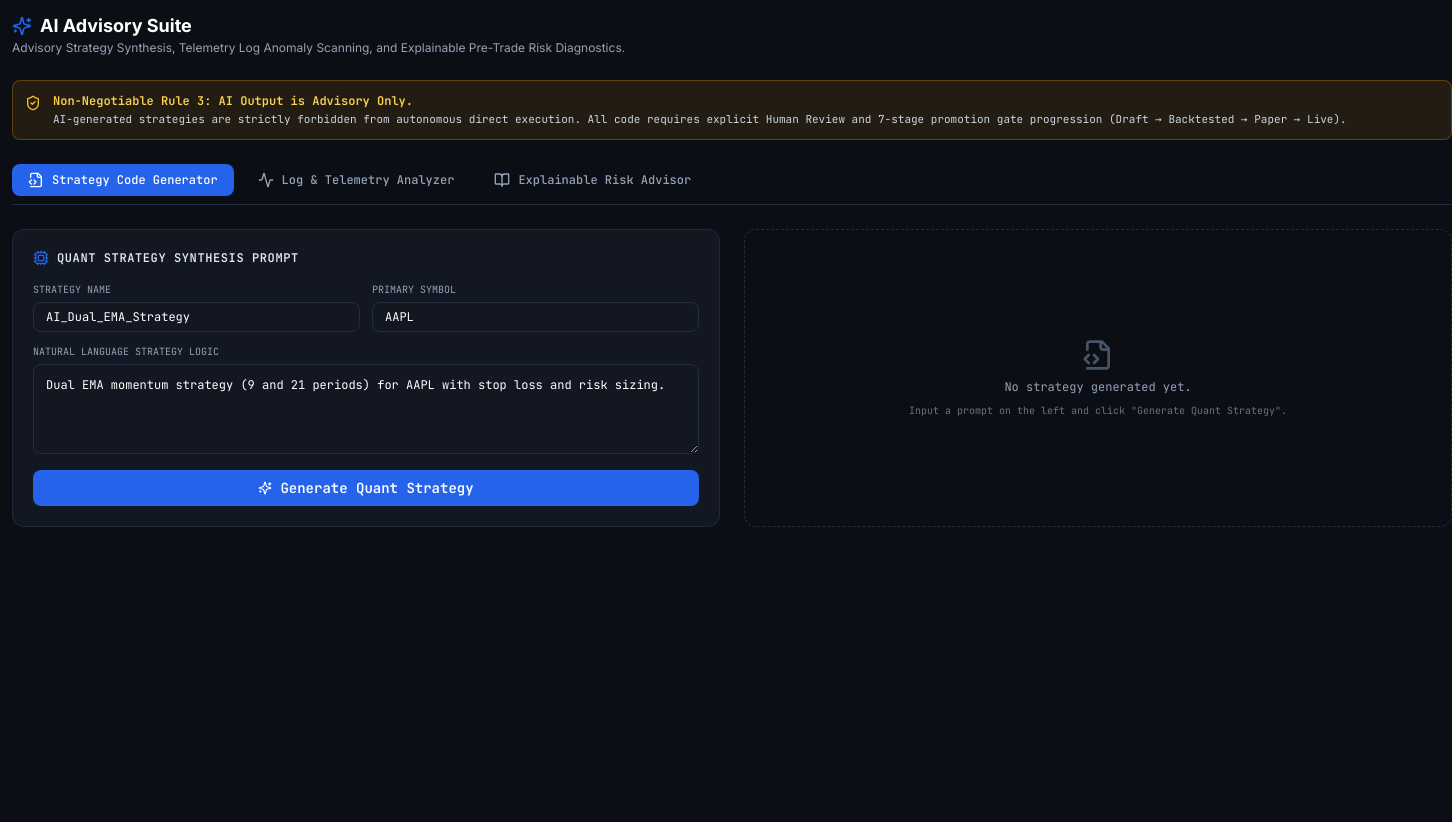
Test: AIAdvisorySuitePage › renders AI advisory suite and generates strategy
This screenshot has width=1452, height=822.
Expected: the heading "AI Advisory Suite" is shown, [12, 15, 192, 36]
Expected: the text "Non-Negotiable Rule 3: AI Output is Advisory Only." is shown, [53, 93, 413, 109]
Click the button "Generate Quant Strategy" at (366, 488), box [33, 470, 699, 506]
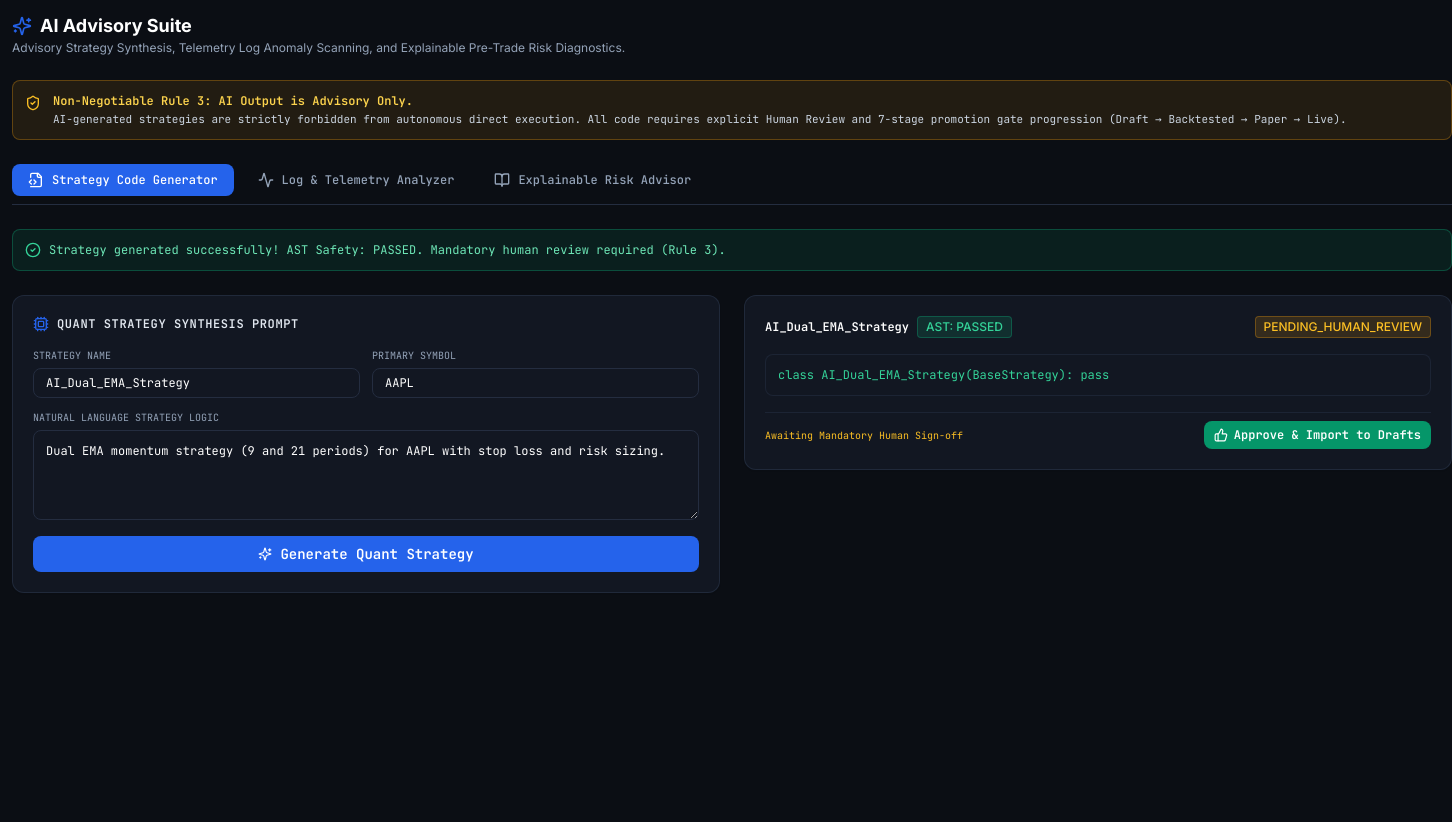
Expected: the text "AST: PASSED" is shown, [917, 316, 1012, 338]
Expected: the text "PENDING_HUMAN_REVIEW" is shown, [1255, 316, 1431, 338]
